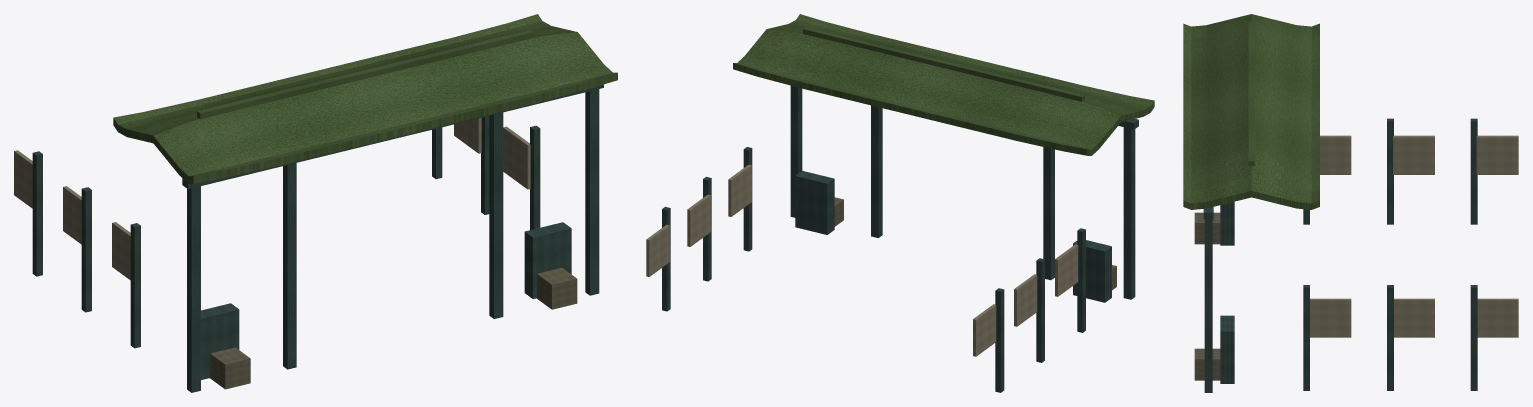
The picture shows the model from 3 angles, left to right: view 1: azimuth 30°, elevation 25°; view 2: azimuth 150°, elevation 25°; view 3: azimuth 270°, elevation 25°; orthographic projection. The views are drawn at different scales.
Parts seen in each view (by area): view 1: garrison_part_0001, garrison_part_0000, garrison_part_0002; view 2: garrison_part_0001, garrison_part_0002, garrison_part_0000; view 3: garrison_part_0001, garrison_part_0002, garrison_part_0000.
Part boxes in pixels (x1=…): garrison_part_0001: x1=32, y1=14, x2=617, y2=348; garrison_part_0000: x1=187, y1=89, x2=599, y2=392; garrison_part_0002: x1=14, y1=29, x2=571, y2=379; garrison_part_0001: x1=662, y1=14, x2=1154, y2=392; garrison_part_0002: x1=646, y1=27, x2=1111, y2=356; garrison_part_0000: x1=790, y1=85, x2=1135, y2=299; garrison_part_0001: x1=1183, y1=14, x2=1477, y2=390; garrison_part_0002: x1=1220, y1=22, x2=1518, y2=383; garrison_part_0000: x1=1194, y1=207, x2=1220, y2=392.
Bounding box in the file's own units: 925 × 525 × 741.
